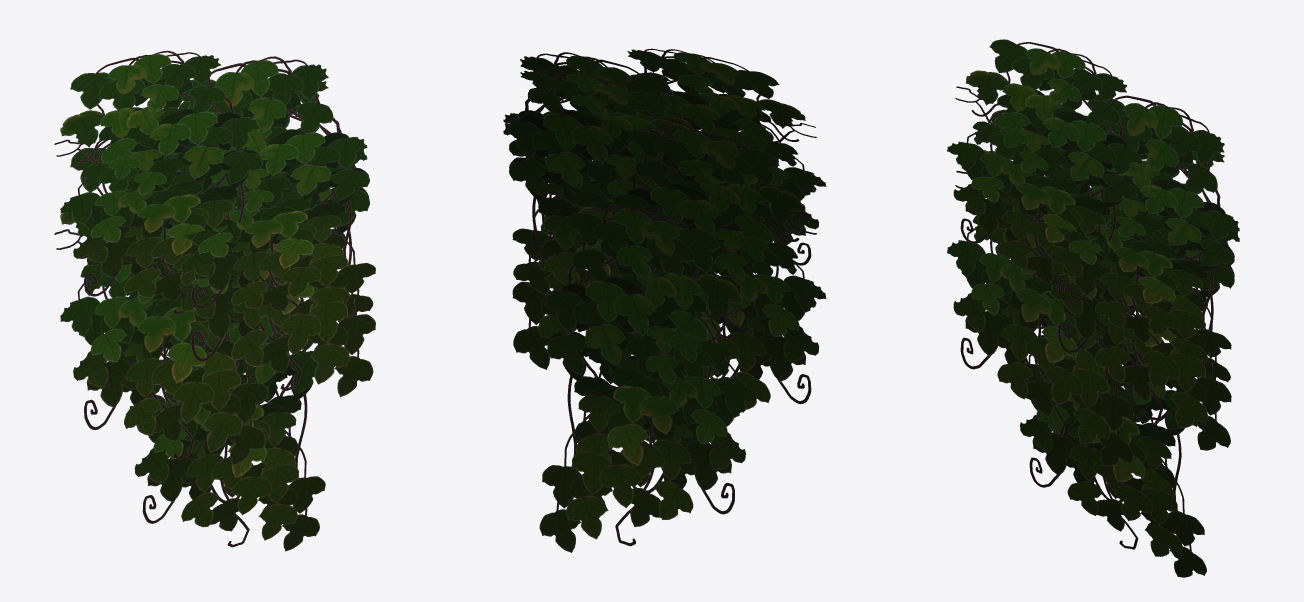
Rendered from VEG_PLA_lierre.FBX.
The picture shows the model from 3 angles, left to right: view 1: azimuth 30°, elevation 25°; view 2: azimuth 150°, elevation 25°; view 3: azimuth 330°, elevation 25°; orthographic projection. The views are drawn at different scales.
Visible parts, largest first — view 1: VEG_PLA_lierre_LOD0; view 2: VEG_PLA_lierre_LOD0; view 3: VEG_PLA_lierre_LOD0.
Boxes of the visible parts, x1=… form: VEG_PLA_lierre_LOD0: x1=54, y1=50, x2=375, y2=551; VEG_PLA_lierre_LOD0: x1=503, y1=48, x2=826, y2=552; VEG_PLA_lierre_LOD0: x1=947, y1=39, x2=1239, y2=577.
Size of what is drawn, in the model's own units: 105 by 137 by 13.93.
Materials: 1 (1 with a texture image).
